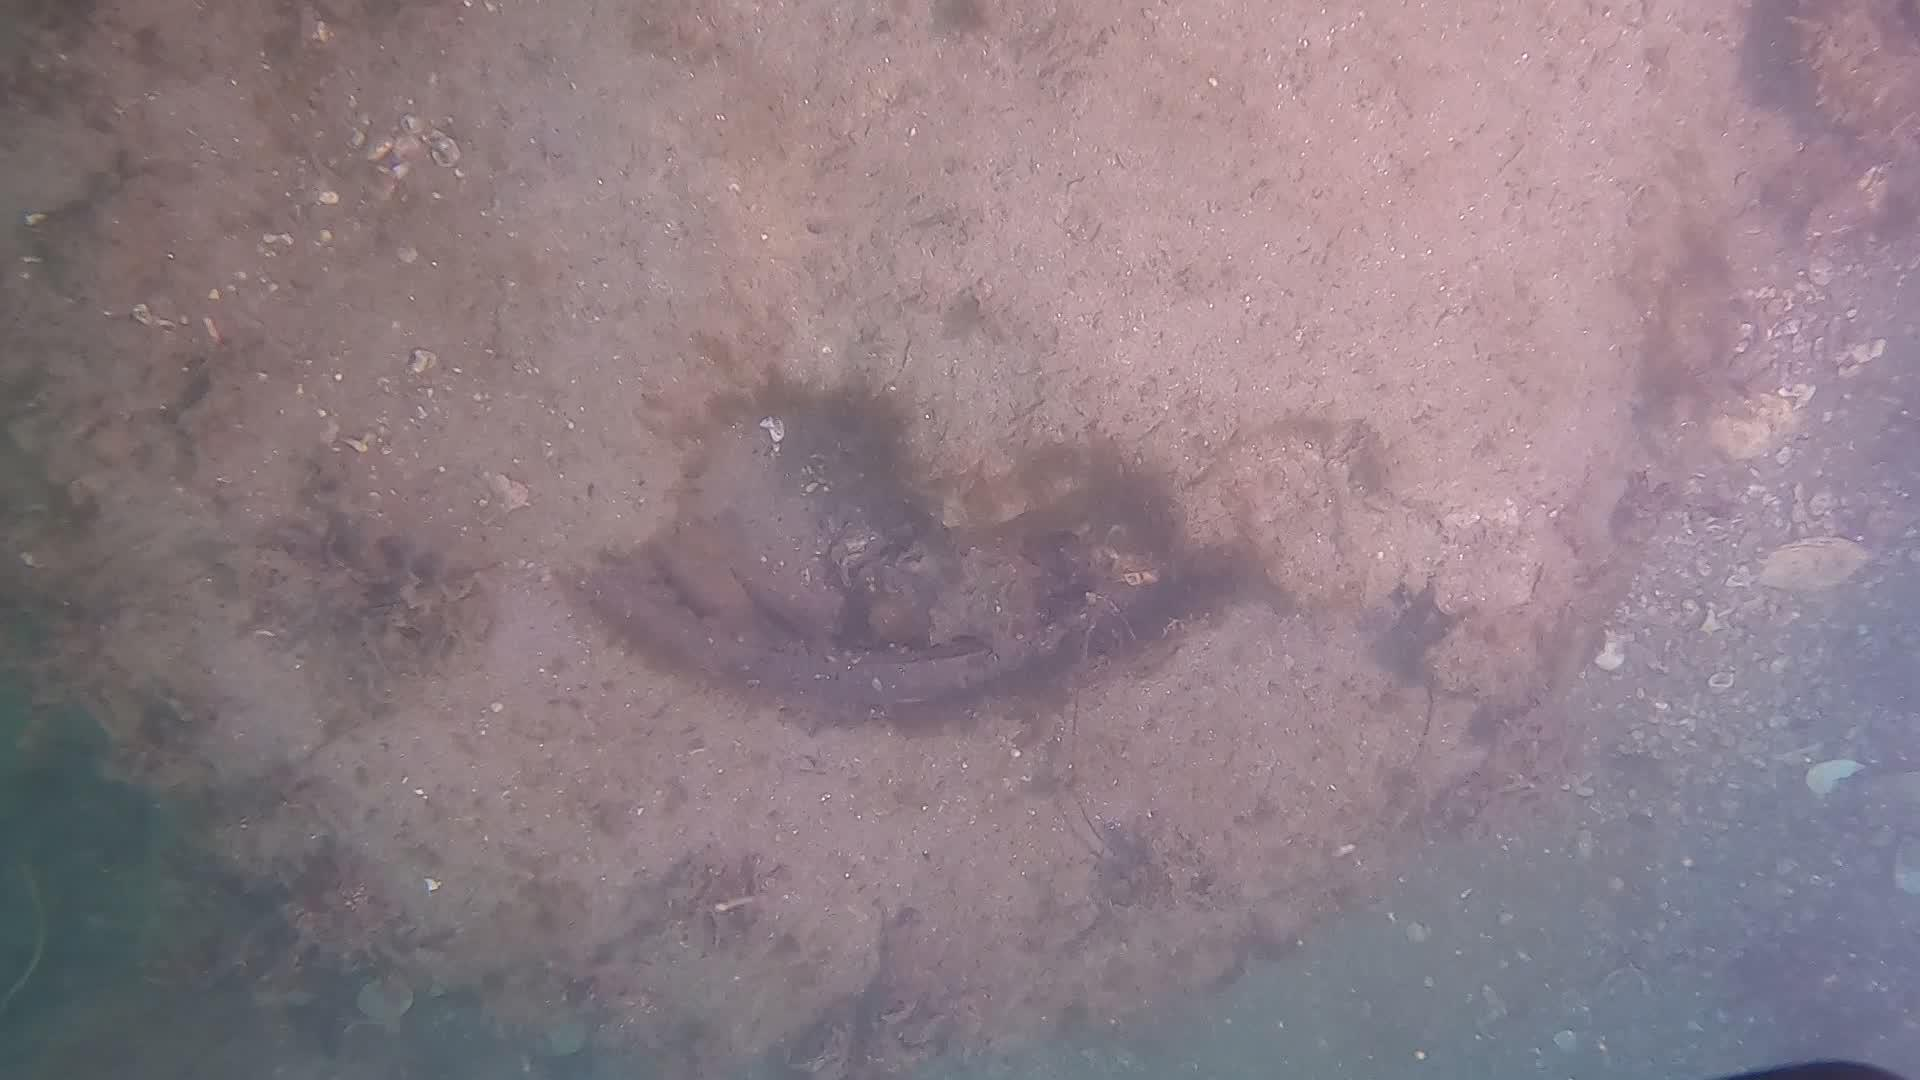tire: (0, 555, 1636, 1080)
